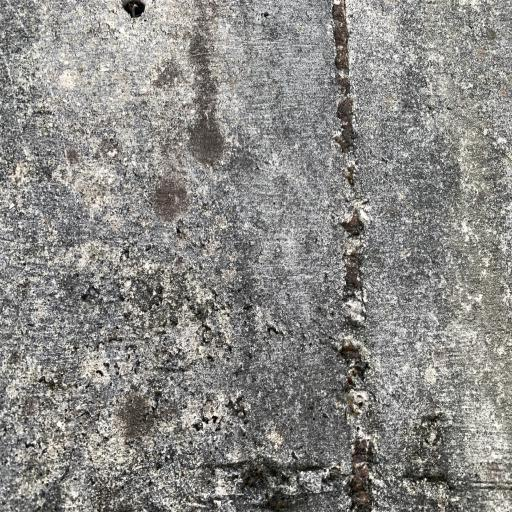exposed_rebar: (332, 0, 356, 190), (342, 203, 365, 329), (340, 340, 368, 418), (349, 425, 372, 510)
